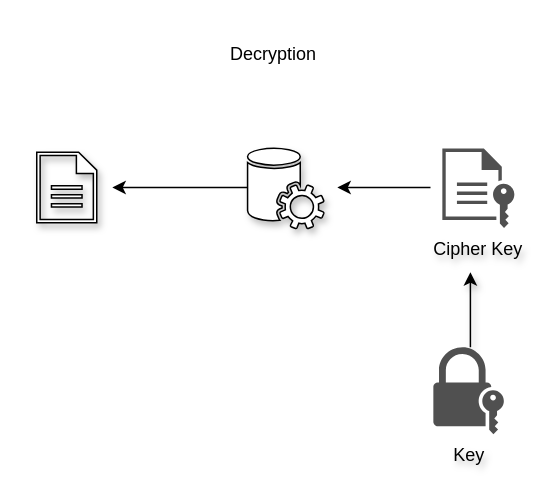
This 548x491 diagram has some shape labels left out. The centre of each missing label's shape, as x and y in pixels:
Encryption Algorithm: pixel 286 189
Plain Text: pixel 67 189
